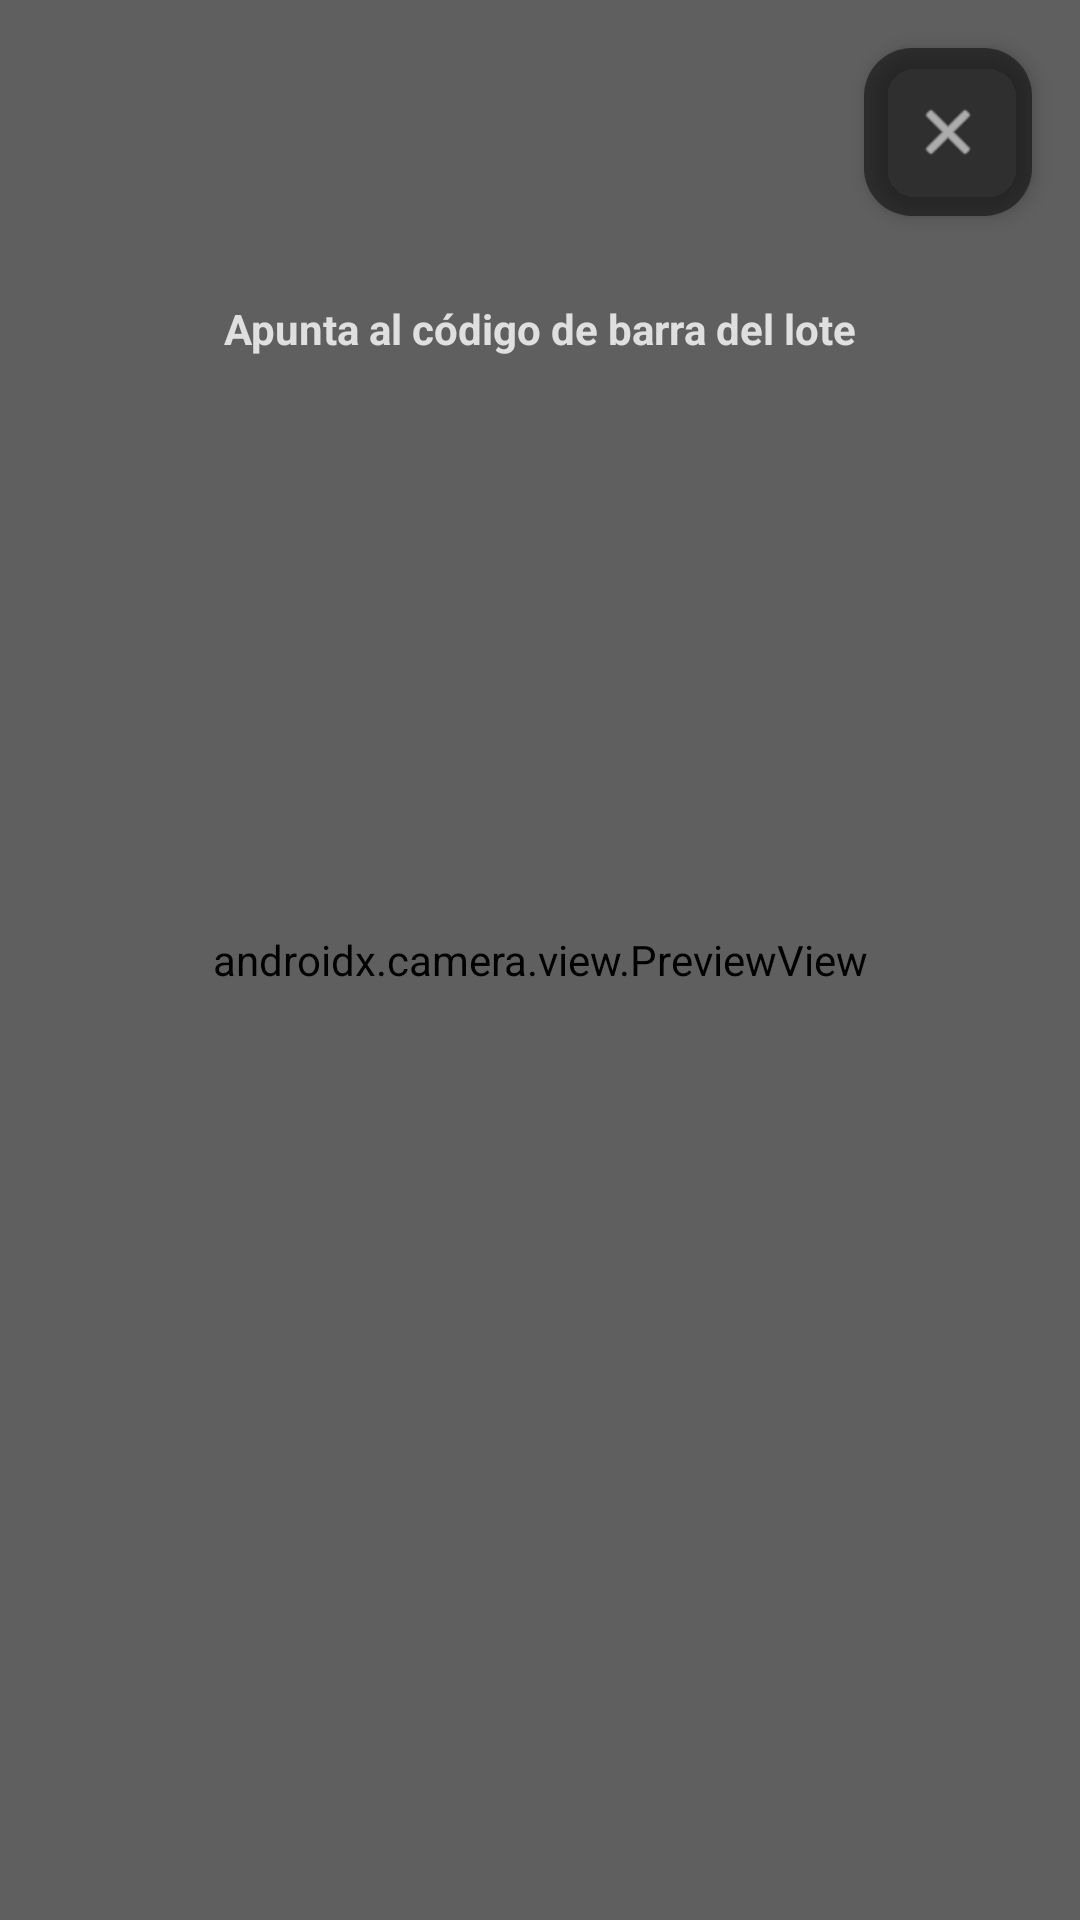

Named icons in this screenshot (1080 × 1920) and their bounding boxes, (left=x1, top=y1, right=x2, bottom=y2):
close clear cancel: (left=864, top=48, right=1032, bottom=216)
